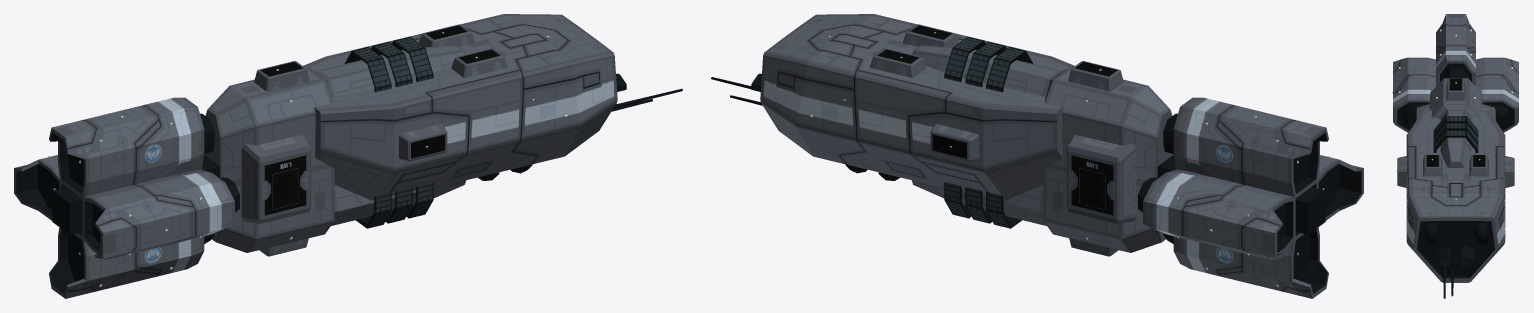
3 renders of one model, left to right at view 1: azimuth 30°, elevation 25°; view 2: azimuth 150°, elevation 25°; view 3: azimuth 270°, elevation 25°, orthographic. The views are drawn at different scales.
Visible parts, largest first — view 1: Front superstructure, Engine assembly, Middle hull, Cube.000, Radiators front, Cube.009, Cube.014, Cube.013, Cube.010; view 2: Front superstructure, Engine assembly, Middle hull, Cube.000, Radiators front, Cube.009, Cube.014, Cube.013, Cube.010; view 3: Front superstructure, Engine assembly, Middle hull, Radiators front, Cube.009, Cube.010, Cylinder.003, Cube.002, Cube.014, Cube.000, Cylinder.004.
Part boxes in pixels (x1,y1,x2,y2): Front superstructure: (303,14,617,200); Engine assembly: (14,97,239,298); Middle hull: (204,45,465,252); Cube.000: (241,135,311,223); Radiators front: (344,36,433,228); Cube.009: (419,24,507,77); Cube.014: (254,61,309,256); Cube.013: (52,155,220,234); Cube.010: (399,123,447,161); Front superstructure: (760,14,1074,200); Engine assembly: (1138,97,1363,298); Middle hull: (912,45,1173,252); Cube.000: (1066,135,1136,223); Radiators front: (944,37,1033,228); Cube.009: (870,24,958,77); Cube.014: (1068,61,1123,256); Cube.013: (1157,155,1325,234); Cube.010: (930,123,978,161); Front superstructure: (1406,110,1505,282); Engine assembly: (1393,14,1518,132); Middle hull: (1429,78,1482,167); Radiators front: (1433,116,1478,152); Cube.009: (1423,154,1488,176); Cube.010: (1397,156,1514,187); Cylinder.003: (1424,223,1487,244); Cube.002: (1438,245,1473,267); Cube.014: (1446,78,1465,100); Cube.000: (1416,104,1495,120); Cylinder.004: (1443,266,1446,298).
Size of the model in its own units: 186 by 52.6 by 47.45.
2 materials, 1 textured.
